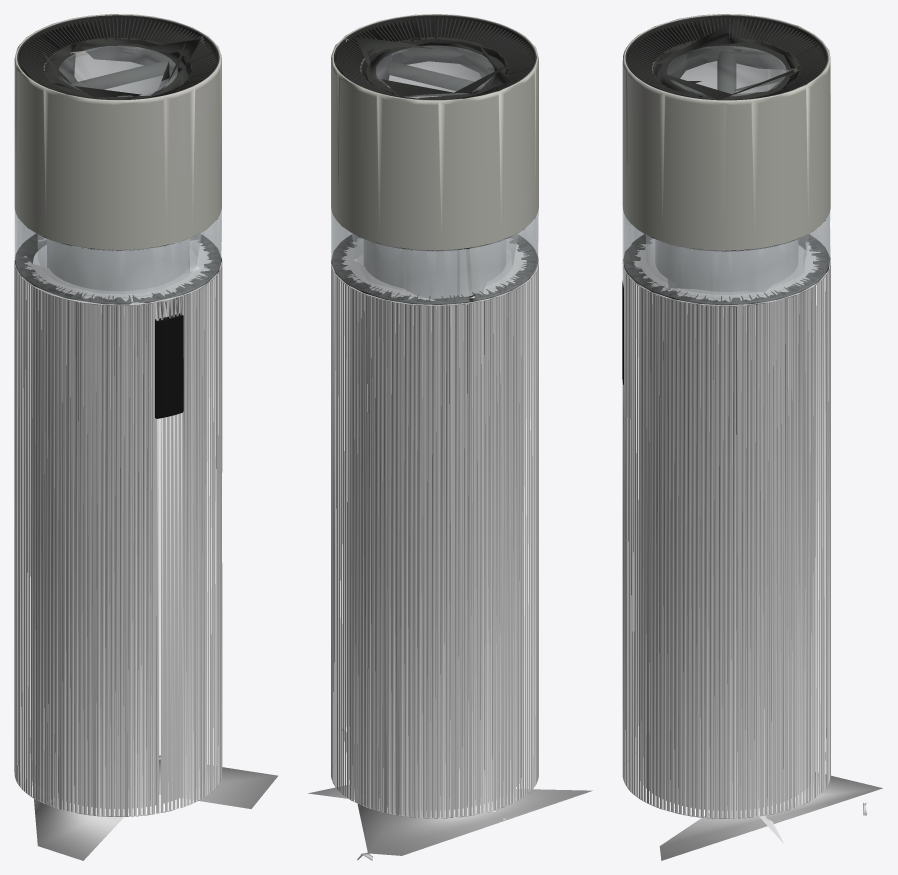
File: humidifier_a01.glb
3 views of the same model, side by side, from view 1: azimuth 30°, elevation 25°; view 2: azimuth 150°, elevation 25°; view 3: azimuth 270°, elevation 25° (orthographic).
Parts seen in each view (by area): view 1: sm_humidifier_a01_01; view 2: sm_humidifier_a01_01; view 3: sm_humidifier_a01_01.
Boxes of the visible parts, x1,y1,x2,y2 form: sm_humidifier_a01_01: (14, 14, 278, 860); sm_humidifier_a01_01: (308, 14, 592, 860); sm_humidifier_a01_01: (622, 14, 882, 860).
Size of the model in its own units: 0.3286 by 0.9597 by 0.301.
Materials: 6 (2 with a texture image).
